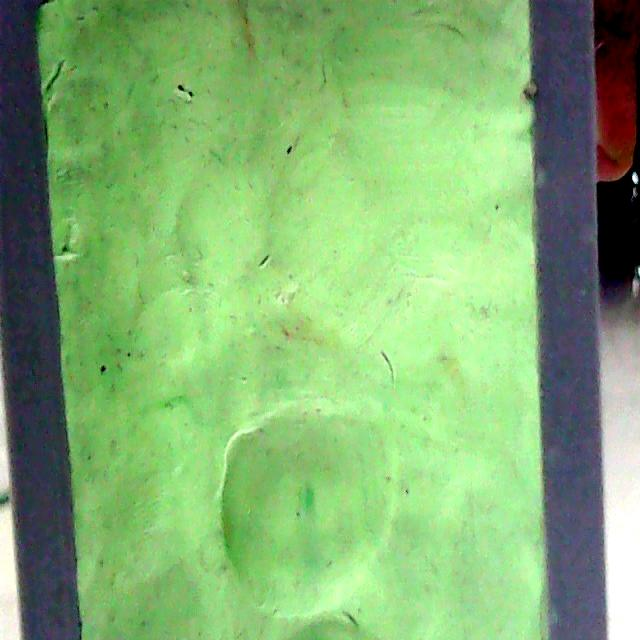block: (0, 2, 610, 640)
